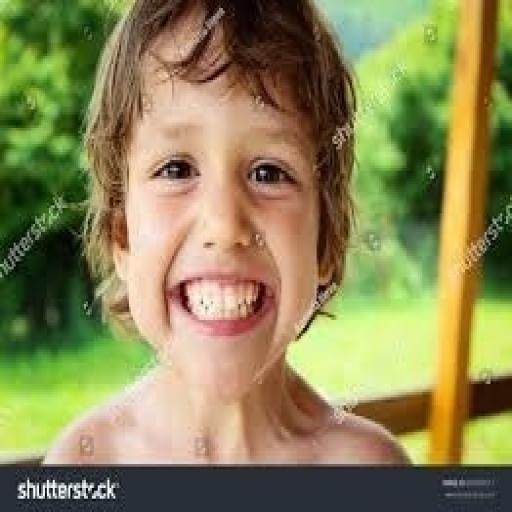laughing: (39, 0, 416, 464)
